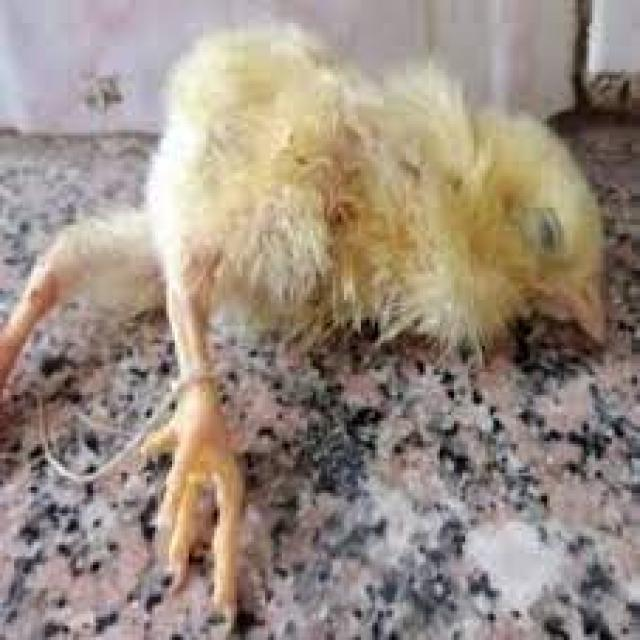AbNormal: (20, 22, 610, 608)
